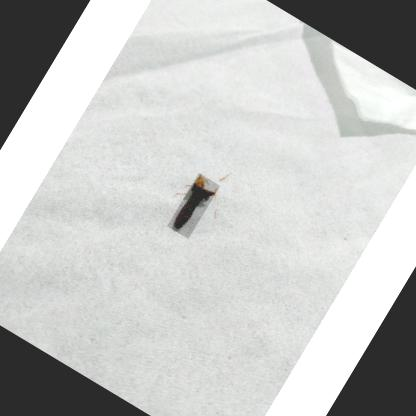buruk: (172, 175, 216, 231)
